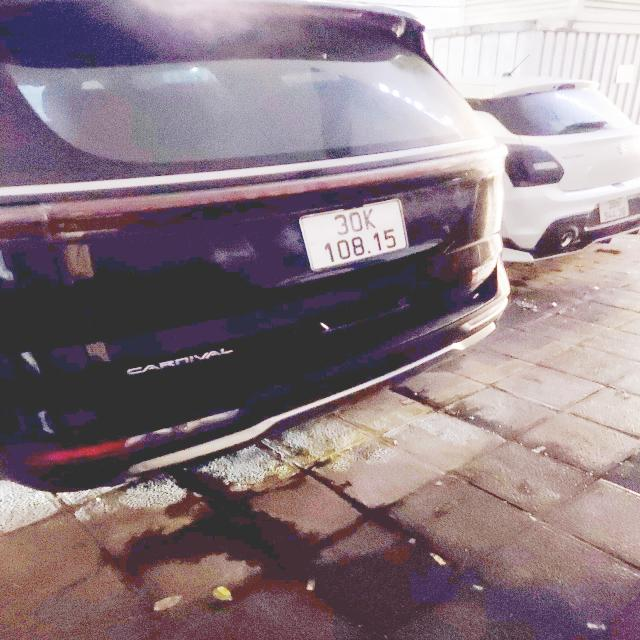license_plate: (297, 198, 412, 272)
